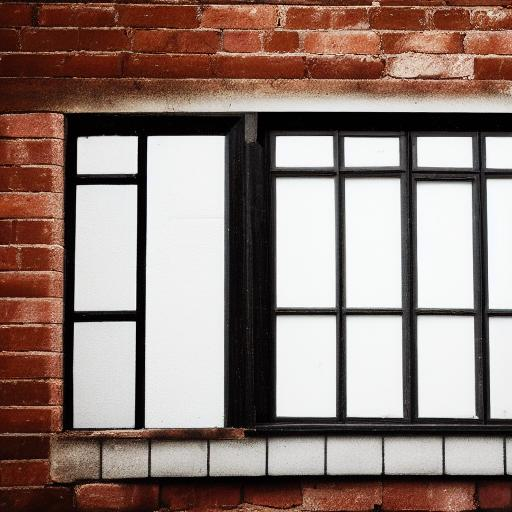Window: (40, 105, 512, 480)
